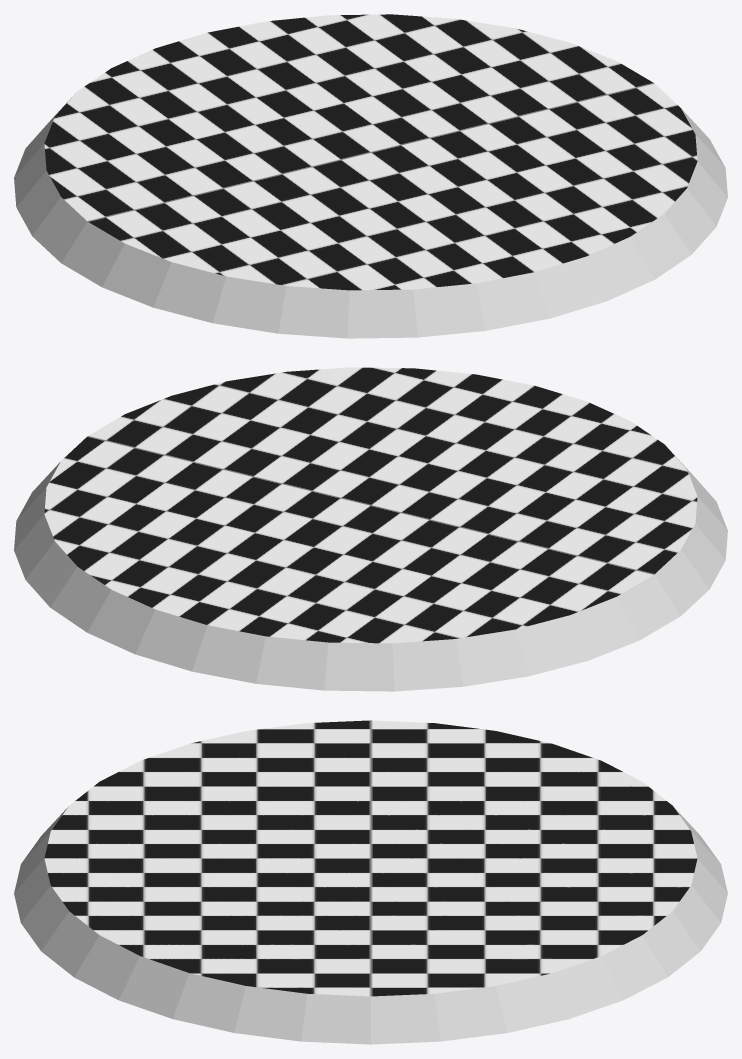
The model's file is 運送場所.fbx.
3 renders of one model, top to bottom at view 1: azimuth 30°, elevation 25°; view 2: azimuth 150°, elevation 25°; view 3: azimuth 270°, elevation 25°, orthographic.
Visible parts, largest first — view 1: 円柱; view 2: 円柱; view 3: 円柱.
Boxes of the visible parts, x1,y1,x2,y2 form: 円柱: [14, 14, 727, 338]; 円柱: [14, 367, 727, 691]; 円柱: [14, 720, 727, 1044].
Size of the model in its own units: 396 by 21.57 by 396.
